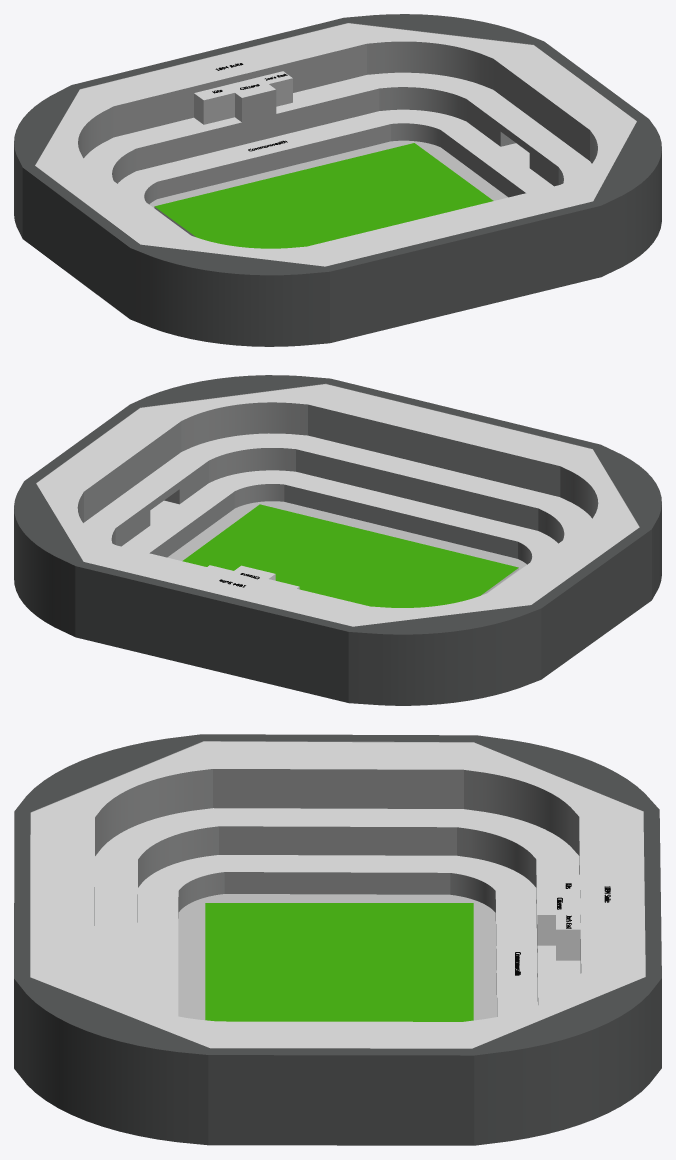
Rendered from Stadium.glb.
3 renders of one model, top to bottom at view 1: azimuth 30°, elevation 25°; view 2: azimuth 150°, elevation 25°; view 3: azimuth 270°, elevation 25°, orthographic. The views are drawn at different scales.
Visible parts, largest first — view 1: 3DGeom-5, 3DGeom-3, 3DGeom-4, 3DGeom-6, 3DGeom-2, 3DGeom-7, 3DGeom-1; view 2: 3DGeom-5, 3DGeom-3, 3DGeom-4, 3DGeom-6, 3DGeom-2, 3DGeom-1; view 3: 3DGeom-3, 3DGeom-5, 3DGeom-4, 3DGeom-6, 3DGeom-2, 3DGeom-1.
Boxes of the visible parts, <box> form: 3DGeom-5: <box>14,14,661,346</box>; 3DGeom-3: <box>35,23,636,266</box>; 3DGeom-4: <box>78,41,597,204</box>; 3DGeom-6: <box>154,143,493,248</box>; 3DGeom-2: <box>149,140,507,234</box>; 3DGeom-7: <box>203,78,292,124</box>; 3DGeom-1: <box>35,23,636,236</box>; 3DGeom-5: <box>14,375,661,705</box>; 3DGeom-3: <box>36,384,639,626</box>; 3DGeom-4: <box>77,402,598,564</box>; 3DGeom-6: <box>182,504,518,607</box>; 3DGeom-2: <box>167,501,526,593</box>; 3DGeom-1: <box>37,383,639,595</box>; 3DGeom-3: <box>30,741,645,1048</box>; 3DGeom-5: <box>14,734,661,1145</box>; 3DGeom-4: <box>94,769,581,1016</box>; 3DGeom-6: <box>205,903,473,1021</box>; 3DGeom-2: <box>178,894,496,1020</box>; 3DGeom-1: <box>30,741,645,930</box>.
Bounding box in the file's own units: 23.69 × 3.11 × 20.19.
